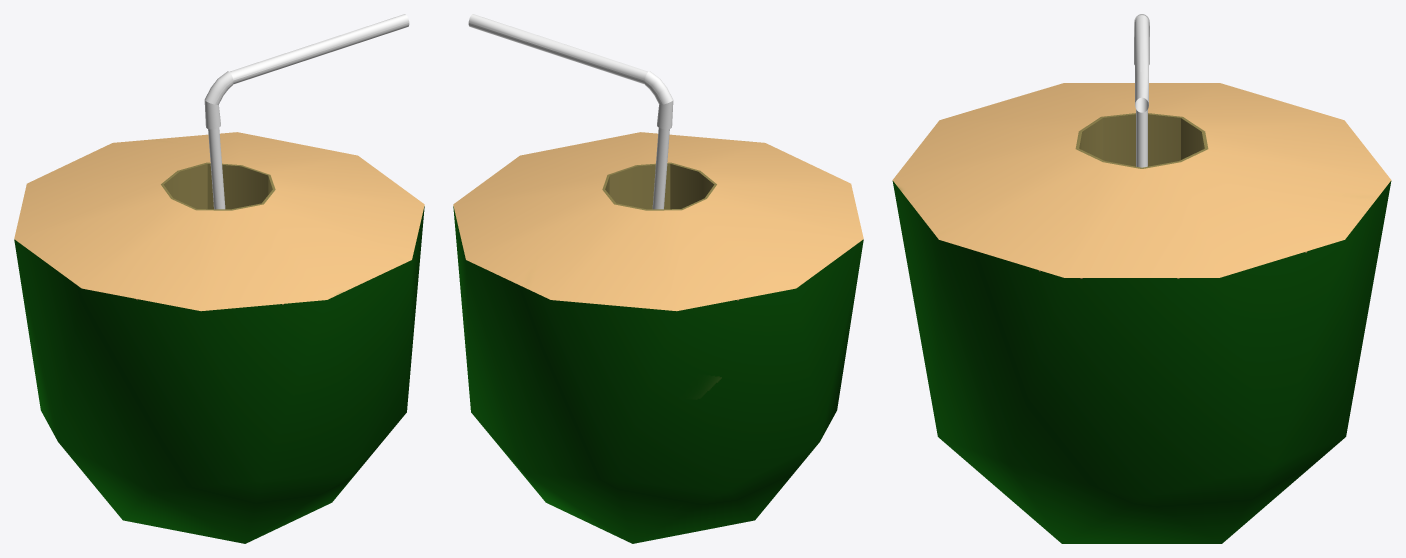
Rendered from coconut water.glb.
3 views of the same model, side by side, from view 1: azimuth 30°, elevation 25°; view 2: azimuth 150°, elevation 25°; view 3: azimuth 270°, elevation 25° (orthographic). The views are drawn at different scales.
Parts seen in each view (by area): view 1: Icosphere, Cylinder; view 2: Icosphere, Cylinder; view 3: Icosphere, Cylinder.
Part boxes in pixels (bbox=[...]): Icosphere: bbox=[14, 132, 424, 543]; Cylinder: bbox=[204, 14, 409, 209]; Icosphere: bbox=[453, 132, 863, 543]; Cylinder: bbox=[468, 14, 673, 209]; Icosphere: bbox=[892, 83, 1391, 543]; Cylinder: bbox=[1134, 14, 1149, 167].
Size of the model in its own units: 2.67 by 3.37 by 2.77.
3 materials, 1 textured.
